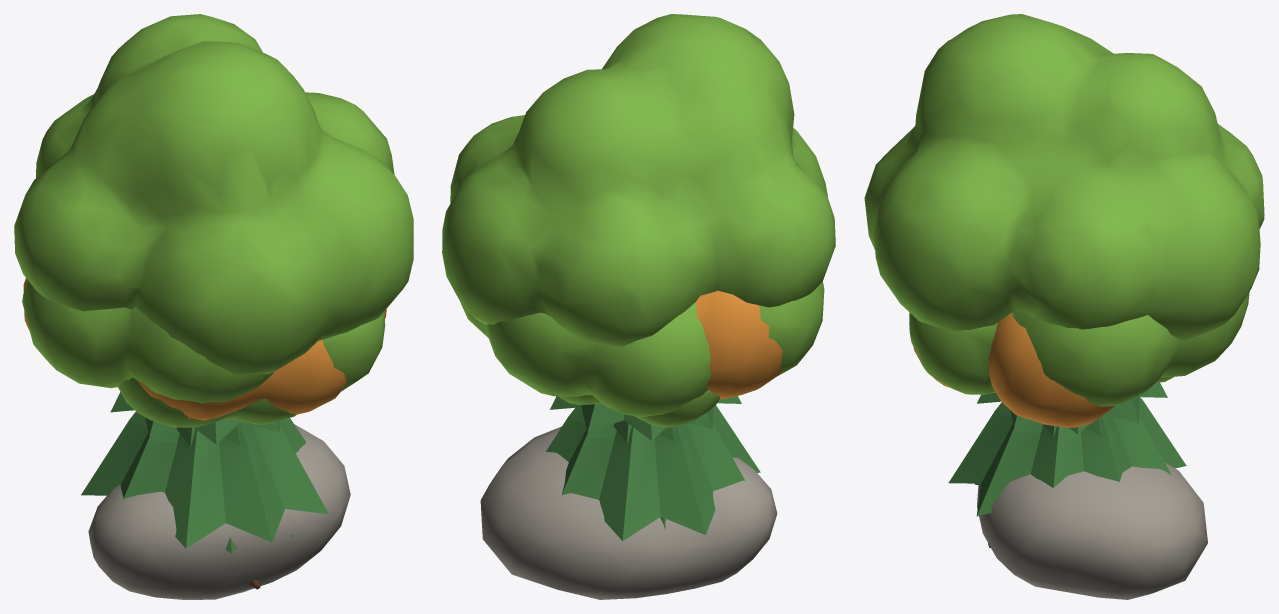
The model's file is nature.glb.
3 renders of one model, left to right at view 1: azimuth 30°, elevation 25°; view 2: azimuth 150°, elevation 25°; view 3: azimuth 270°, elevation 25°, orthographic. The views are drawn at different scales.
Parts seen in each view (by area): view 1: arbre-rond-3:feuillage, sapin-1:sapin, rocher-3:pierre-sombre, arbre-rond-1:feuillage, arbre-rond-automne:feuillage-roux, arbre-rond-2:feuillage, sapin-2:sapin; view 2: arbre-rond-3:feuillage, rocher-3:pierre-sombre, arbre-rond-1:feuillage, sapin-1:sapin, arbre-rond-automne:feuillage-roux, arbre-rond-2:feuillage; view 3: arbre-rond-3:feuillage, rocher-3:pierre-sombre, arbre-rond-1:feuillage, sapin-1:sapin, arbre-rond-automne:feuillage-roux.
Part boxes in pixels (<box>): arbre-rond-3:feuillage: <box>14,14,413,374</box>; sapin-1:sapin: <box>81,392,328,548</box>; rocher-3:pierre-sombre: <box>88,424,350,599</box>; arbre-rond-1:feuillage: <box>22,280,385,403</box>; arbre-rond-automne:feuillage-roux: <box>23,278,386,420</box>; arbre-rond-2:feuillage: <box>117,377,296,427</box>; sapin-2:sapin: <box>177,423,292,553</box>; arbre-rond-3:feuillage: <box>442,14,835,346</box>; rocher-3:pierre-sombre: <box>480,426,777,599</box>; arbre-rond-1:feuillage: <box>461,281,824,416</box>; sapin-1:sapin: <box>546,396,760,540</box>; arbre-rond-automne:feuillage-roux: <box>695,290,782,399</box>; arbre-rond-2:feuillage: <box>558,390,719,427</box>; arbre-rond-3:feuillage: <box>864,14,1264,340</box>; rocher-3:pierre-sombre: <box>977,462,1207,599</box>; arbre-rond-1:feuillage: <box>909,292,1249,406</box>; sapin-1:sapin: <box>948,382,1186,516</box>; arbre-rond-automne:feuillage-roux: <box>909,312,1114,427</box>.
Size of the model in its own units: 3.79 by 5.42 by 3.75.
